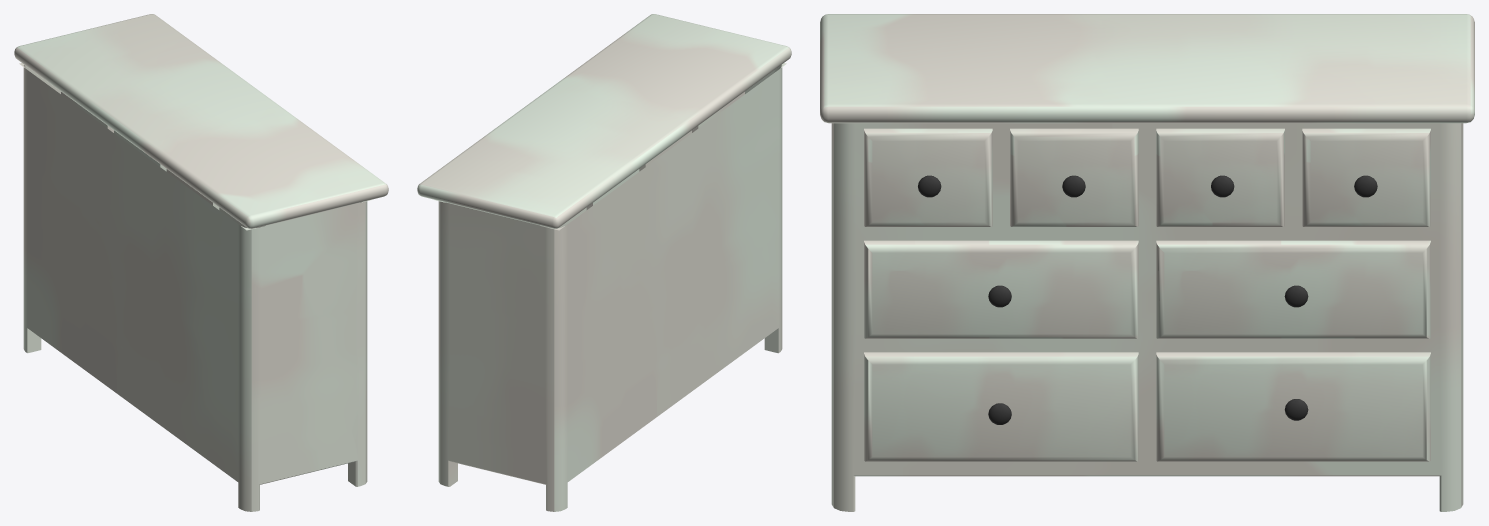
The model's file is Dresser.fbx.
3 views of the same model, side by side, from view 1: azimuth 30°, elevation 25°; view 2: azimuth 150°, elevation 25°; view 3: azimuth 270°, elevation 25° (orthographic). The views are drawn at different scales.
Parts seen in each view (by area): view 1: dresser_body; view 2: dresser_body; view 3: dresser_body, bottom_left_drawer, bottom_right_drawer, middle_left_drawer, middle_right_drawer, top_left_drawer, top_middle_left_drawer, top_middle_right_drawer, top_right_drawer.
Boxes of the visible parts, bbox=[...] form: dresser_body: bbox=[14, 14, 388, 511]; dresser_body: bbox=[417, 14, 791, 511]; dresser_body: bbox=[820, 14, 1474, 511]; bottom_left_drawer: bbox=[864, 352, 1138, 461]; bottom_right_drawer: bbox=[1156, 352, 1430, 461]; middle_left_drawer: bbox=[864, 240, 1138, 338]; middle_right_drawer: bbox=[1156, 240, 1430, 338]; top_left_drawer: bbox=[864, 128, 992, 226]; top_middle_left_drawer: bbox=[1010, 128, 1138, 226]; top_middle_right_drawer: bbox=[1156, 128, 1284, 226]; top_right_drawer: bbox=[1302, 128, 1430, 226].
Size of the model in its own units: 2.02 by 3.94 by 5.64.
3 materials, 1 textured.
